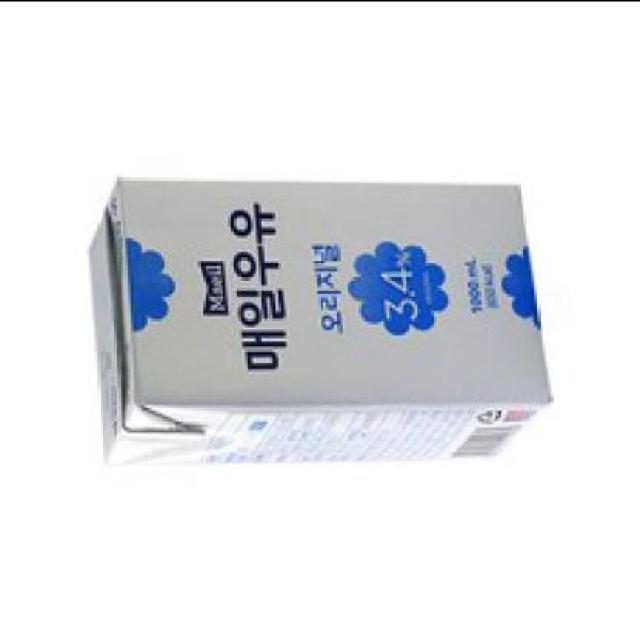tetra: (50, 132, 582, 511)
